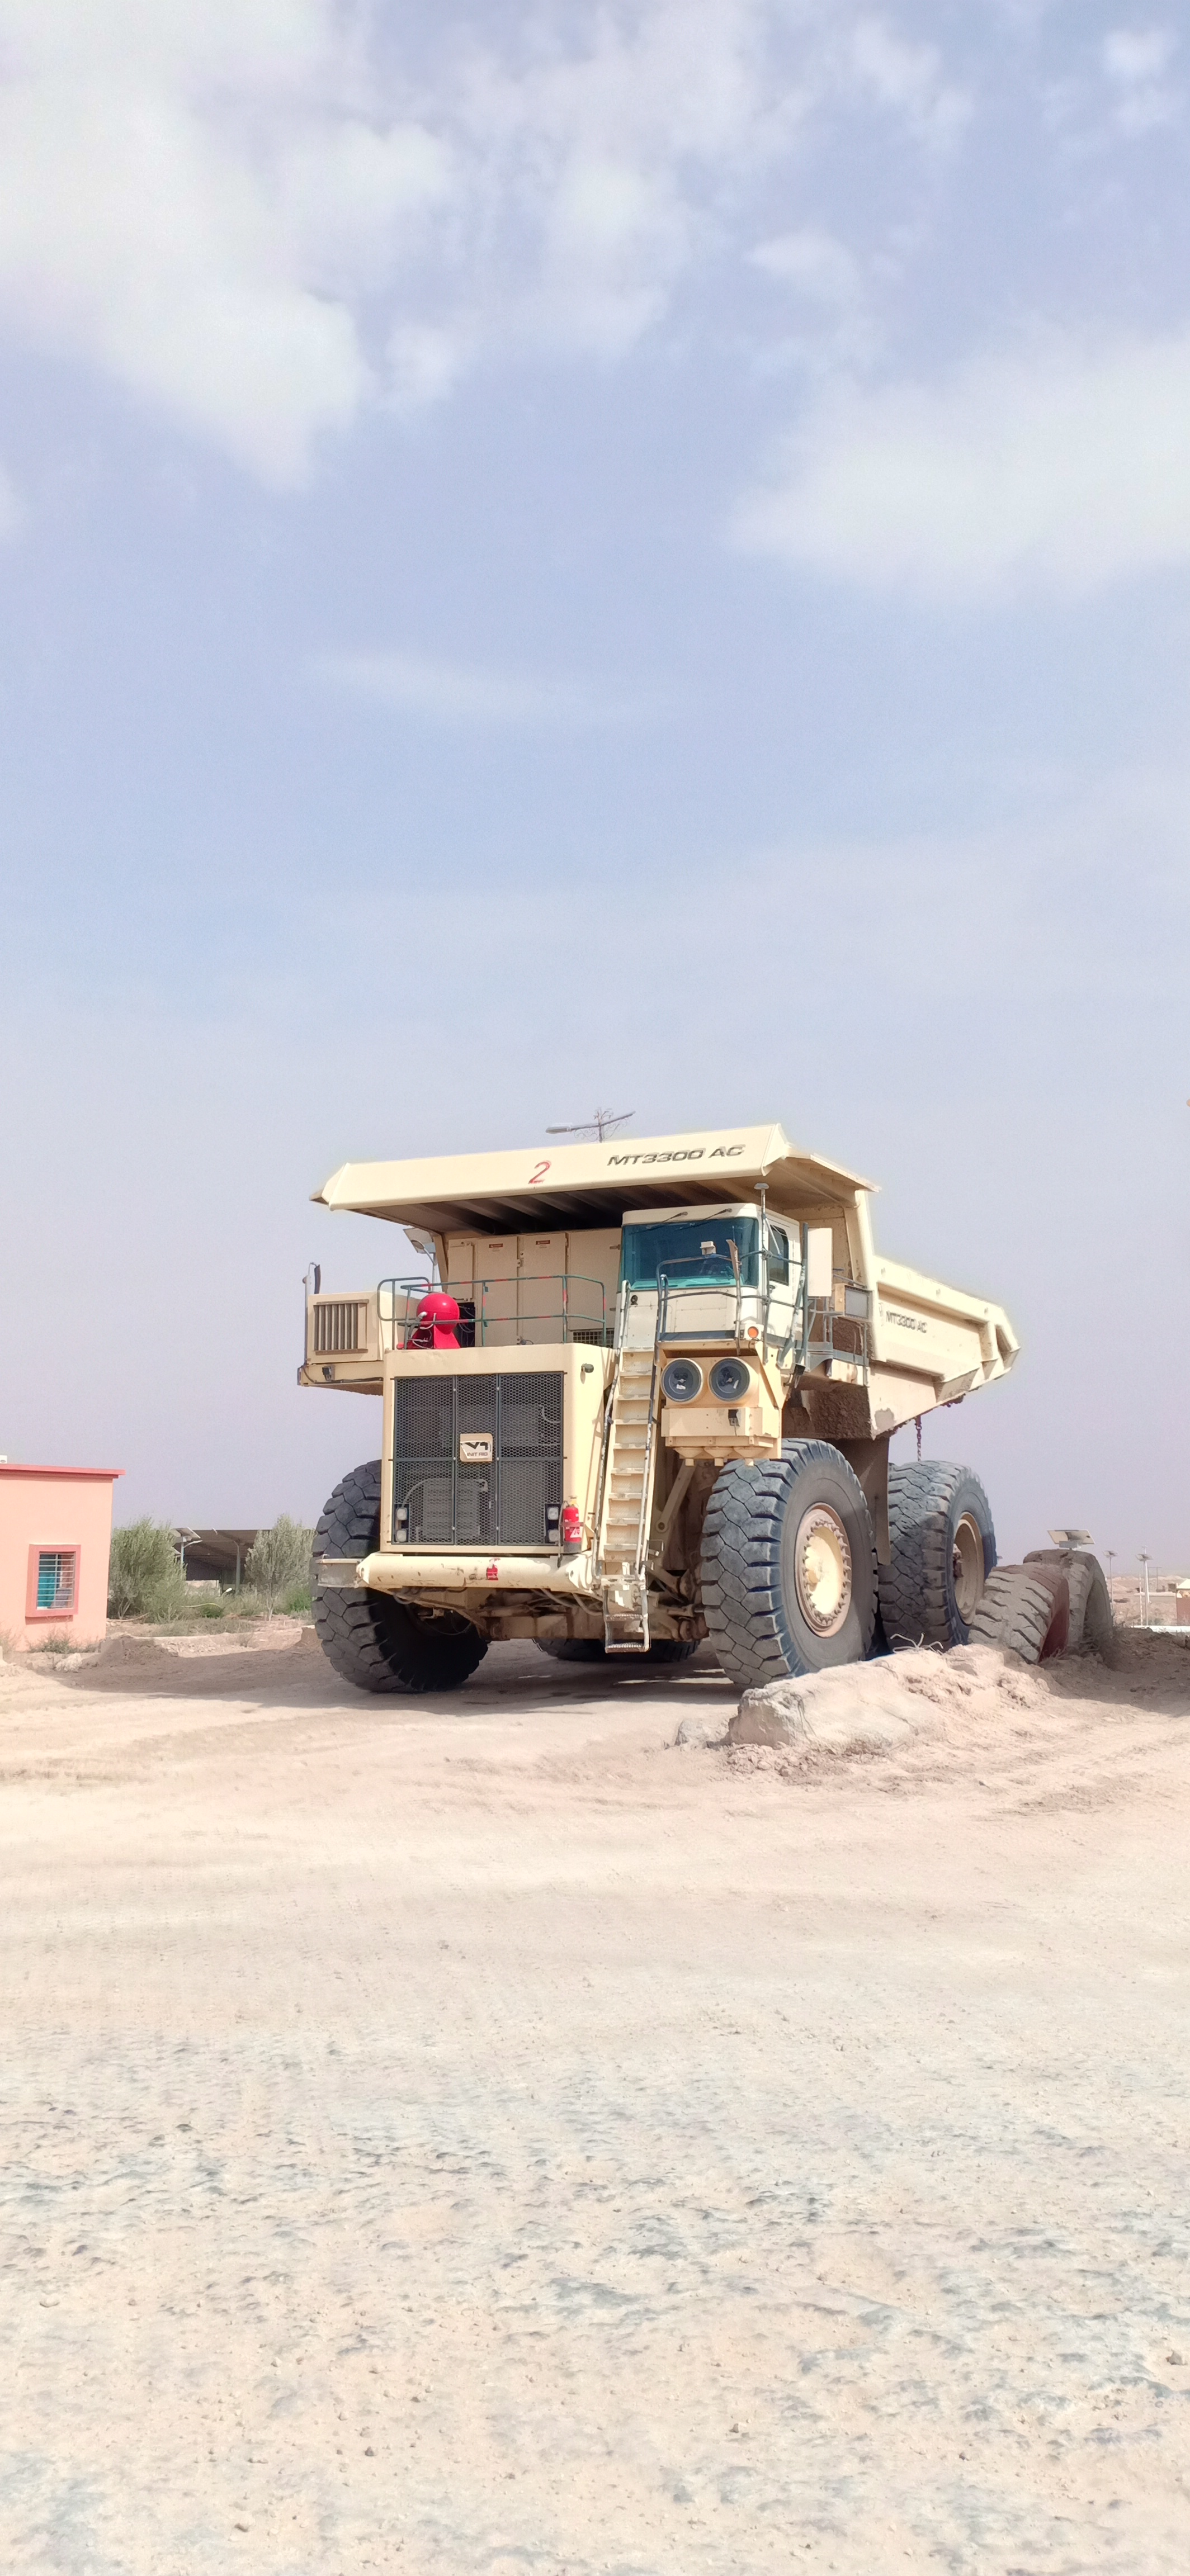camion: (279, 1107, 1037, 1732)
